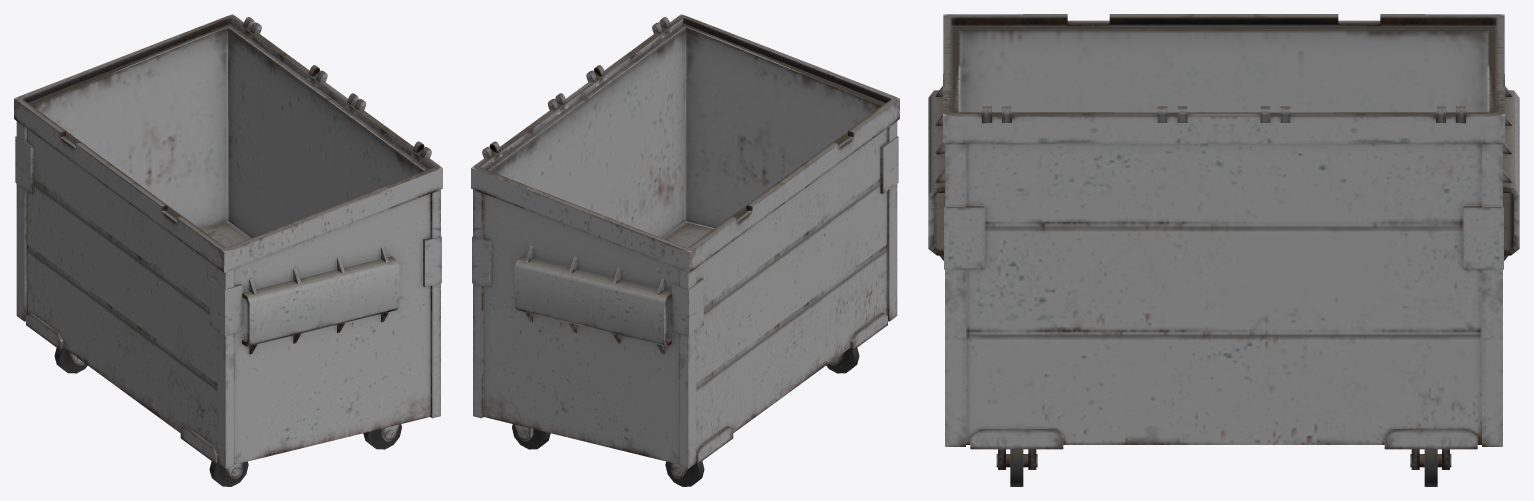
Rendered from Dumpster.fbx.
3 renders of one model, left to right at view 1: azimuth 30°, elevation 25°; view 2: azimuth 150°, elevation 25°; view 3: azimuth 270°, elevation 25°, orthographic. The views are drawn at different scales.
Visible parts, largest first — view 1: Dumpster_LOD0; view 2: Dumpster_LOD0; view 3: Dumpster_LOD0.
Boxes of the visible parts, x1,y1,x2,y2 form: Dumpster_LOD0: (14,14,442,486); Dumpster_LOD0: (471,14,899,486); Dumpster_LOD0: (928,14,1519,486).
Size of what is drawn, in the model's own units: 105 by 136 by 182.
